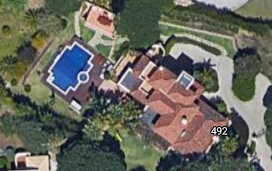pool: (57, 47, 88, 91)
